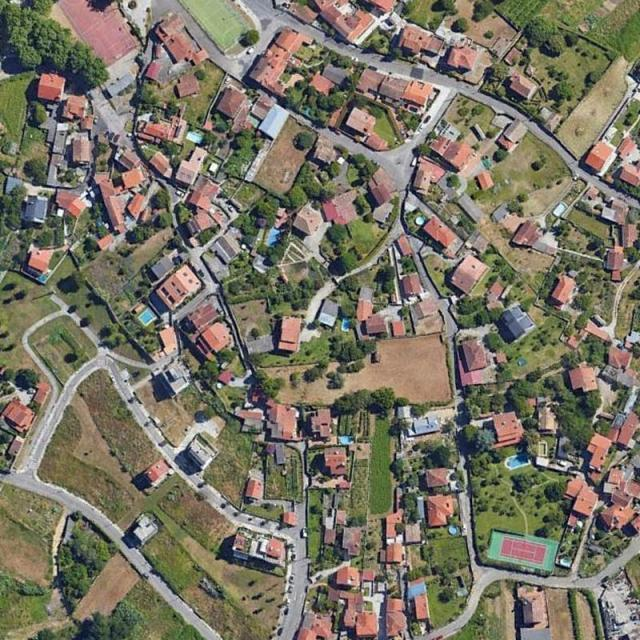vehicle: (288, 574, 296, 584), (114, 134, 122, 143), (422, 114, 430, 123), (302, 526, 308, 538), (175, 190, 185, 197), (93, 115, 99, 124), (292, 552, 298, 561), (288, 586, 294, 594), (285, 598, 291, 606), (247, 46, 255, 52), (229, 204, 234, 213), (226, 75, 231, 84), (105, 130, 110, 138), (109, 133, 114, 141)
